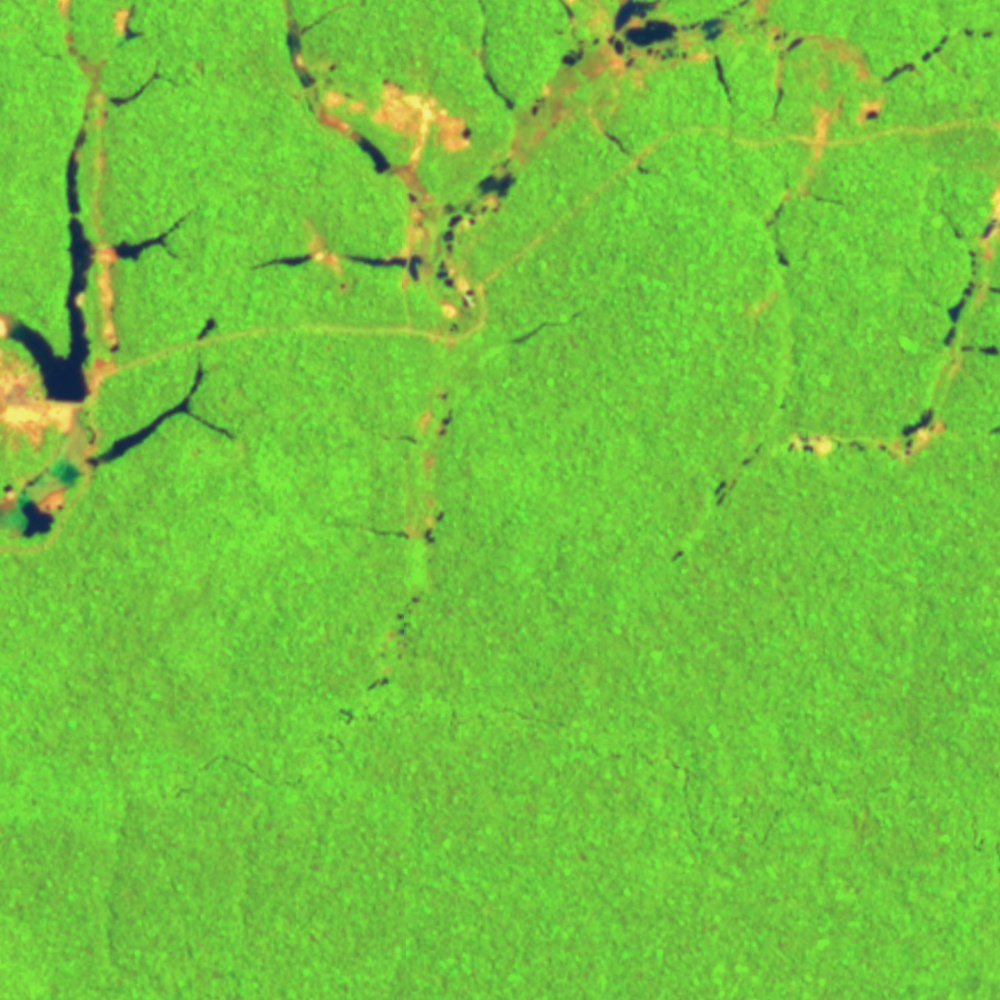illegal: (1, 1, 236, 558), (455, 1, 1000, 213), (703, 167, 1000, 504), (274, 1, 476, 212), (346, 384, 465, 714), (248, 215, 500, 339), (668, 534, 702, 569)
